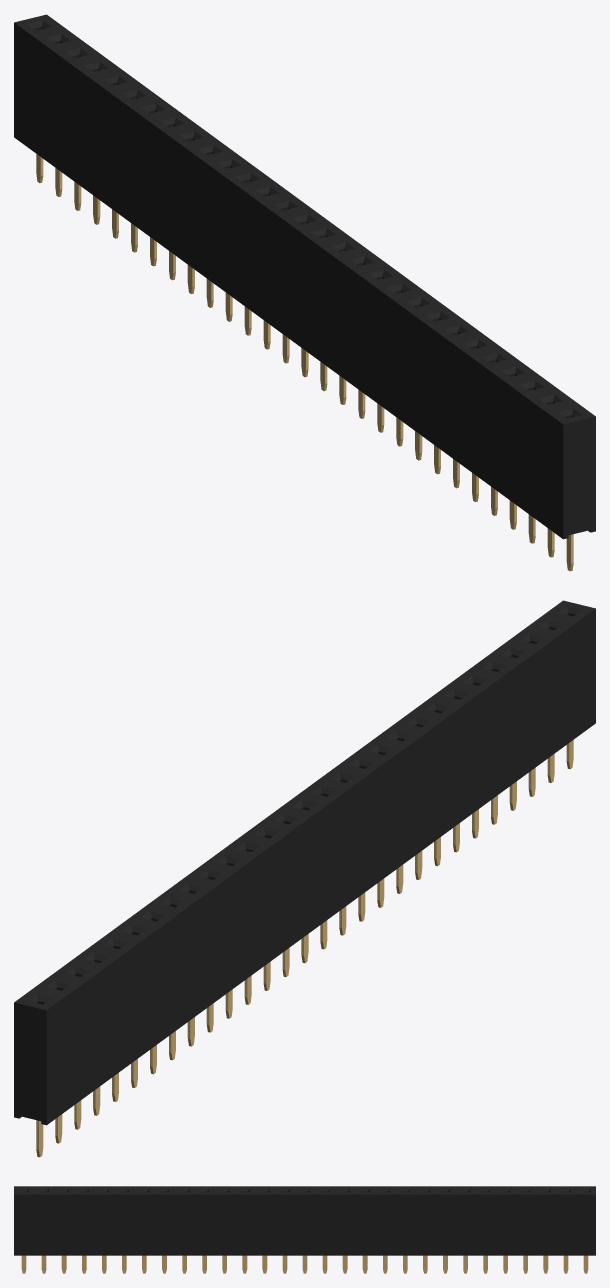
File: kc-pinsocket_1x29_p2.54mm_vertical.glb
3 renders of one model, top to bottom at view 1: azimuth 30°, elevation 25°; view 2: azimuth 150°, elevation 25°; view 3: azimuth 270°, elevation 25°, orthographic. The views are drawn at different scales.
Parts seen in each view (by area): view 1: 0_0_0_0, 0.75_0.5_0.25_0.9; view 2: 0_0_0_0, 0.75_0.5_0.25_0.9; view 3: 0_0_0_0, 0.75_0.5_0.25_0.9.
Part boxes in pixels (bbox=[...]): 0_0_0_0: bbox=[14, 14, 595, 539]; 0.75_0.5_0.25_0.9: bbox=[36, 154, 573, 571]; 0_0_0_0: bbox=[14, 600, 595, 1125]; 0.75_0.5_0.25_0.9: bbox=[36, 740, 573, 1157]; 0_0_0_0: bbox=[14, 1186, 595, 1255]; 0.75_0.5_0.25_0.9: bbox=[21, 1255, 588, 1273].
Bounding box in the file's own units: 0.2536 × 1.16 × 7.37.
